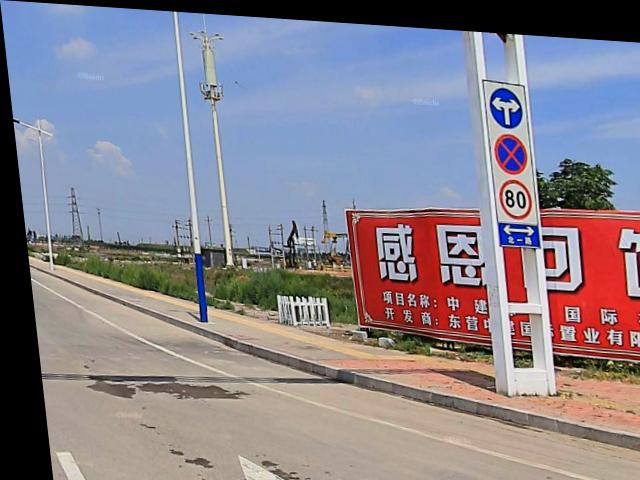limit80: (492, 171, 533, 213)
